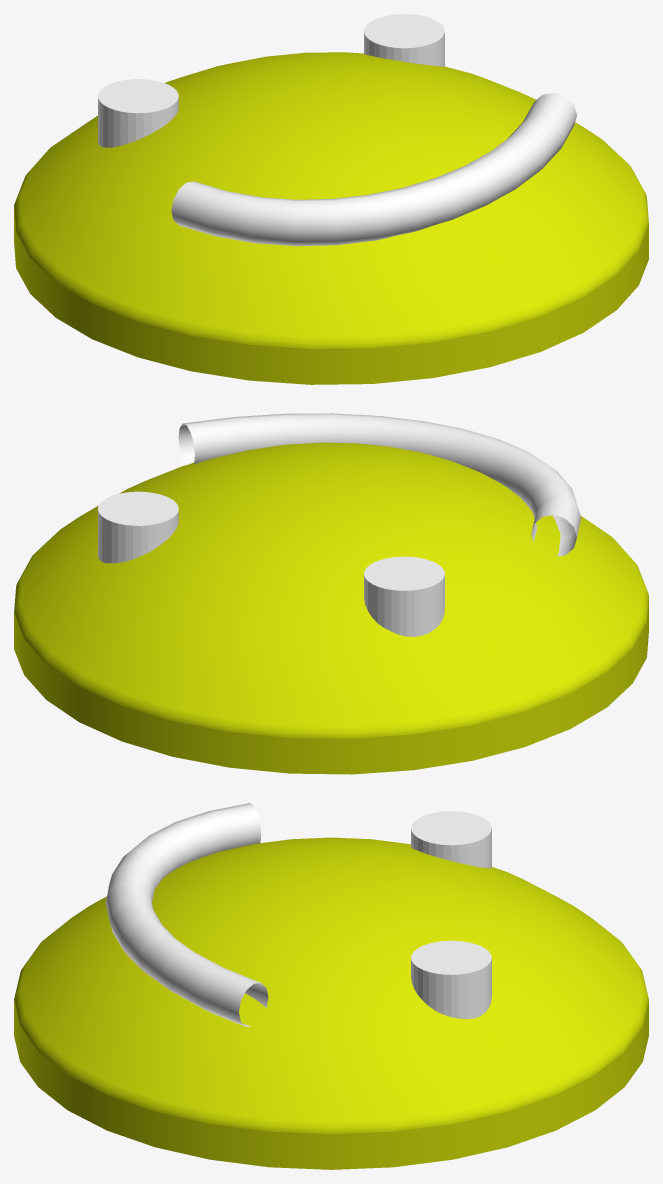
File: smiley.gltf
3 renders of one model, top to bottom at view 1: azimuth 30°, elevation 25°; view 2: azimuth 150°, elevation 25°; view 3: azimuth 270°, elevation 25°, orthographic.
Parts seen in each view (by area): view 1: Cap002, BezierCurve, Cylinder; view 2: Cap002, BezierCurve, Cylinder; view 3: Cap002, BezierCurve, Cylinder.
Boxes of the visible parts, left/top/right/bottom form: Cap002: left=14, top=52, right=648, bottom=384; BezierCurve: left=171, top=92, right=576, bottom=246; Cylinder: left=98, top=14, right=444, bottom=147; Cap002: left=14, top=442, right=648, bottom=774; BezierCurve: left=178, top=413, right=581, bottom=556; Cylinder: left=98, top=491, right=444, bottom=636; Cap002: left=14, top=837, right=648, bottom=1169; BezierCurve: left=105, top=803, right=268, bottom=1026; Cylinder: left=411, top=811, right=491, bottom=1019.
Bounding box in the file's own units: 3 × 1 × 3.
